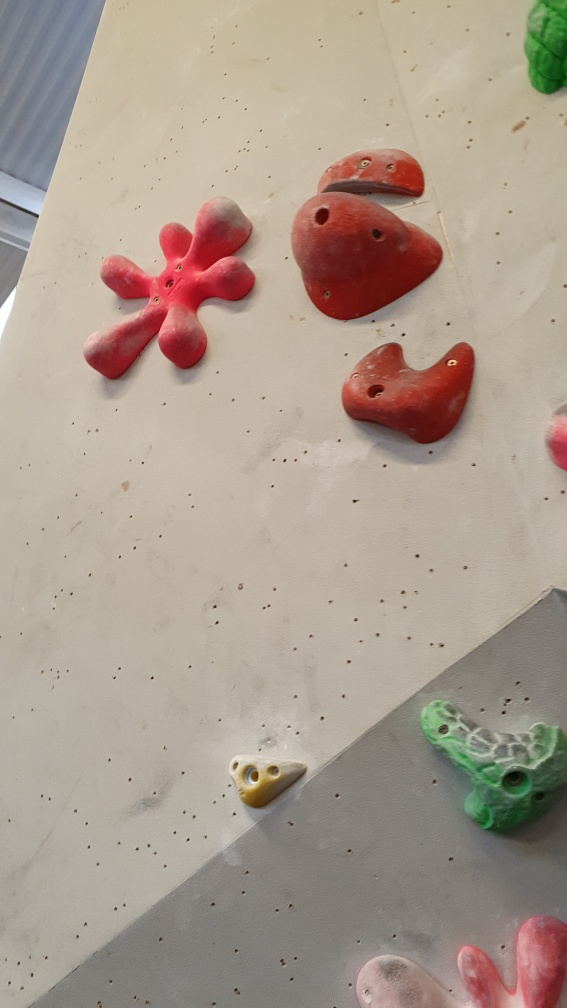Octopus Pinch: (81, 192, 262, 384)
